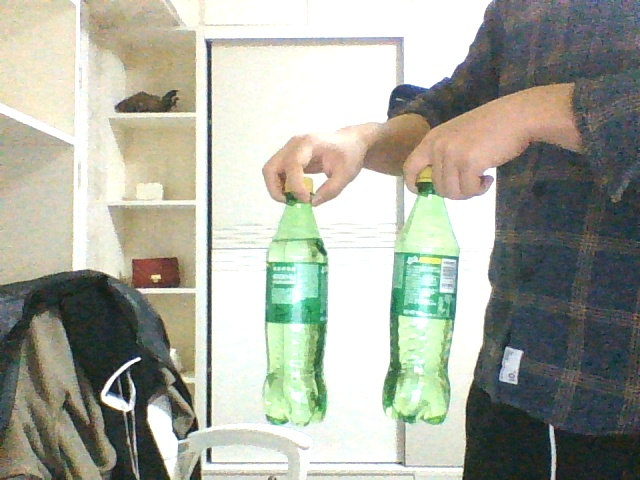Sprite: (382, 166, 460, 423), (262, 176, 328, 426)
